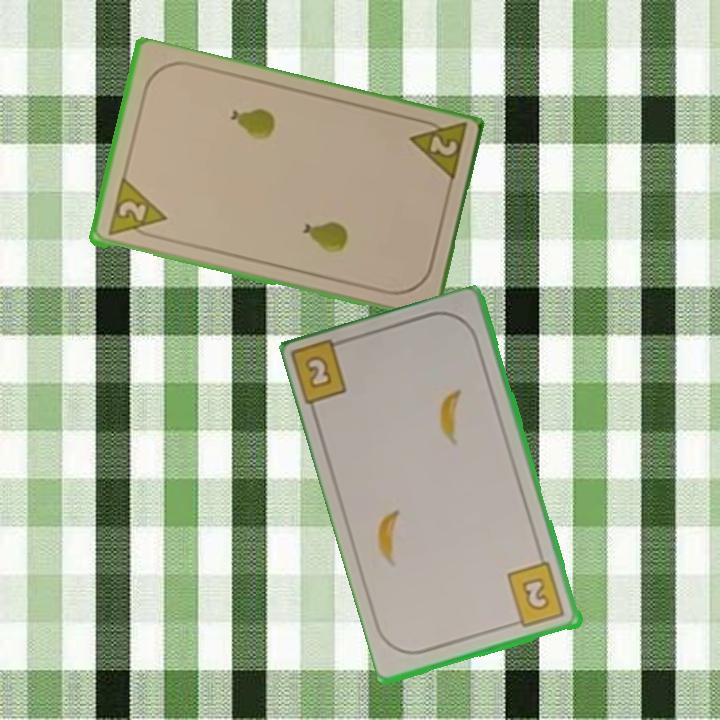2b: (291, 335, 355, 410), (503, 559, 568, 630)
2p: (404, 114, 469, 187), (104, 177, 169, 241)
